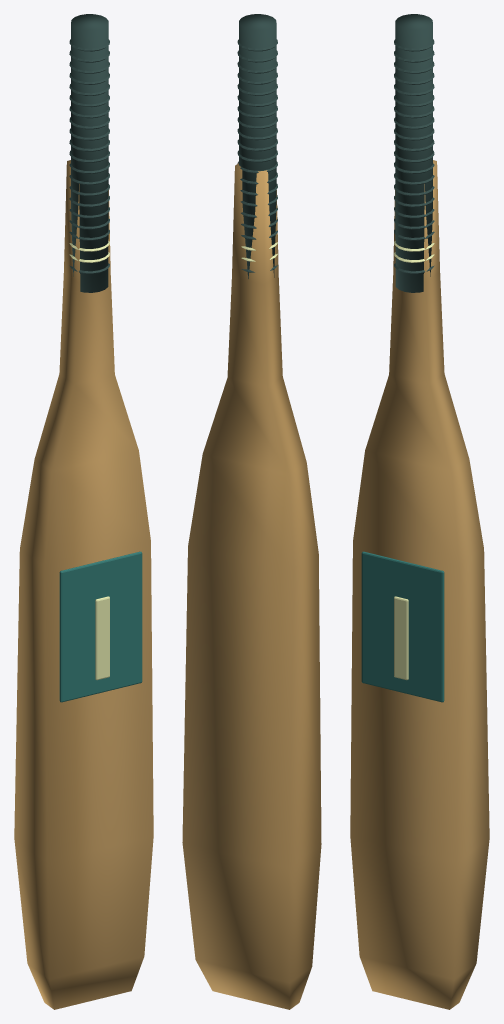
The model's file is bat.glb.
3 views of the same model, side by side, from view 1: azimuth 30°, elevation 25°; view 2: azimuth 150°, elevation 25°; view 3: azimuth 330°, elevation 25° (orthographic).
Visible parts, largest first — view 1: Selected willow_geometry, Dark ribbed rubber_geometry, Bat graphic_geometry, Bat foil_geometry; view 2: Selected willow_geometry, Dark ribbed rubber_geometry; view 3: Selected willow_geometry, Dark ribbed rubber_geometry, Bat graphic_geometry, Bat foil_geometry.
Part boxes in pixels (left/top/right/bottom): Selected willow_geometry: left=14, top=160, right=153, bottom=1009; Dark ribbed rubber_geometry: left=69, top=14, right=109, bottom=292; Bat graphic_geometry: left=59, top=551, right=142, bottom=702; Bat foil_geometry: left=69, top=241, right=109, bottom=680; Selected willow_geometry: left=182, top=163, right=321, bottom=1009; Dark ribbed rubber_geometry: left=237, top=14, right=277, bottom=278; Selected willow_geometry: left=350, top=160, right=489, bottom=1009; Dark ribbed rubber_geometry: left=394, top=14, right=434, bottom=292; Bat graphic_geometry: left=361, top=551, right=444, bottom=702; Bat foil_geometry: left=394, top=241, right=434, bottom=680.
Size of the model in its own units: 0.11 by 0.965 by 0.0645.
4 materials, 1 textured.
